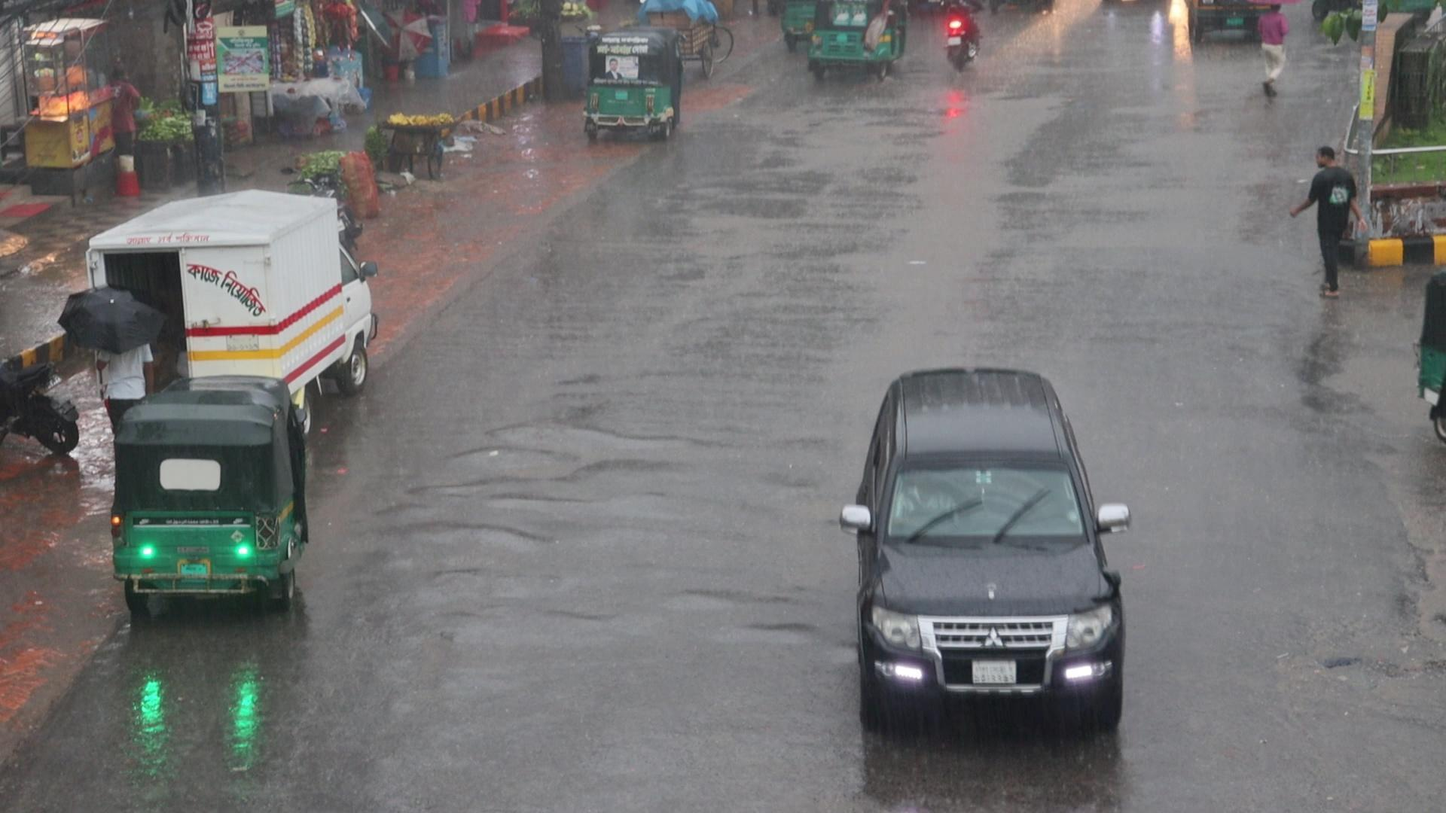Car: (835, 363, 1134, 741)
